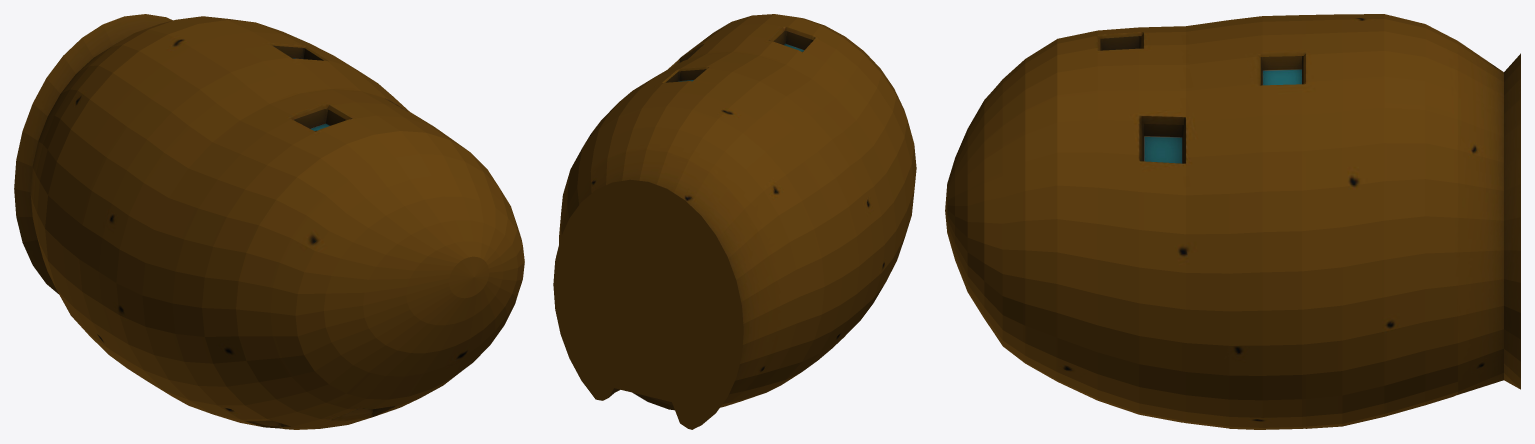
The model's file is PotatoBuilding.dae.
The picture shows the model from 3 angles, left to right: view 1: azimuth 30°, elevation 25°; view 2: azimuth 150°, elevation 25°; view 3: azimuth 270°, elevation 25°; orthographic projection. The views are drawn at different scales.
Visible parts, largest first — view 1: Circle; view 2: Circle; view 3: Circle.
Part boxes in pixels (box(x1,y1,x2,y2)): Circle: box(14, 14, 524, 429); Circle: box(553, 14, 916, 429); Circle: box(945, 14, 1520, 429).
Size of the model in its own units: 101 by 100 by 140.
1 material, 1 textured.
